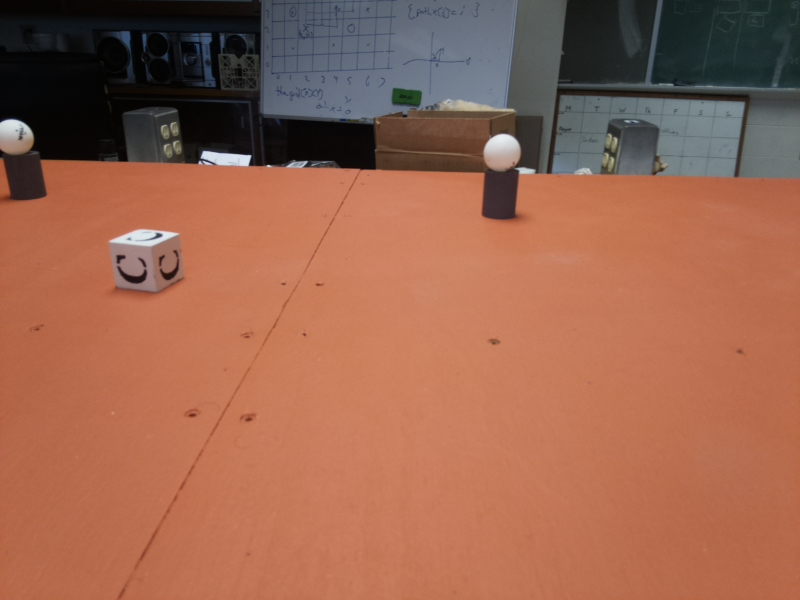blockC: (110, 229, 189, 296)
obstacle: (471, 134, 528, 219), (1, 116, 47, 203)
